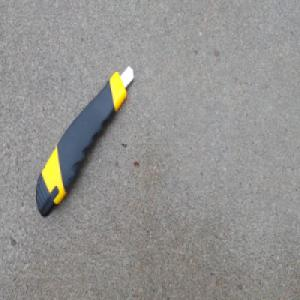Cutter: (34, 66, 134, 223)
